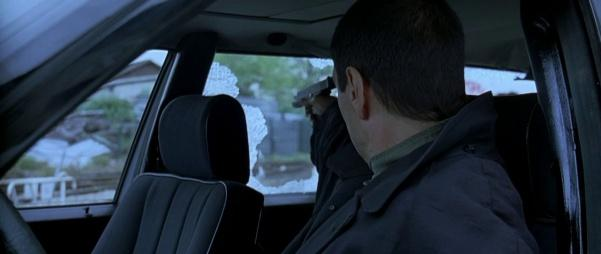Gun: (292, 75, 337, 110)
